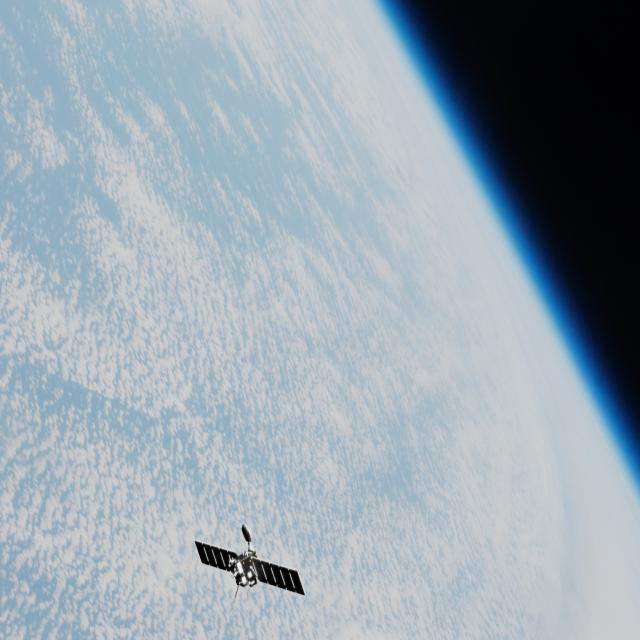medium_debris: (188, 522, 323, 611)
